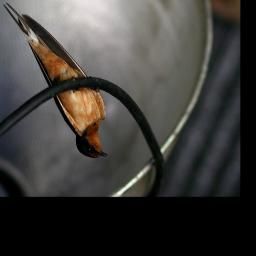Swallow: (0, 1, 112, 162)
